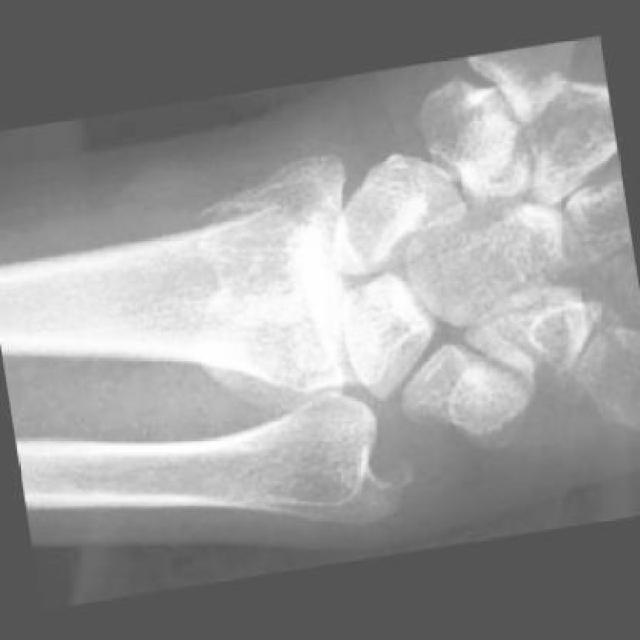Fracture: (162, 166, 325, 402)
